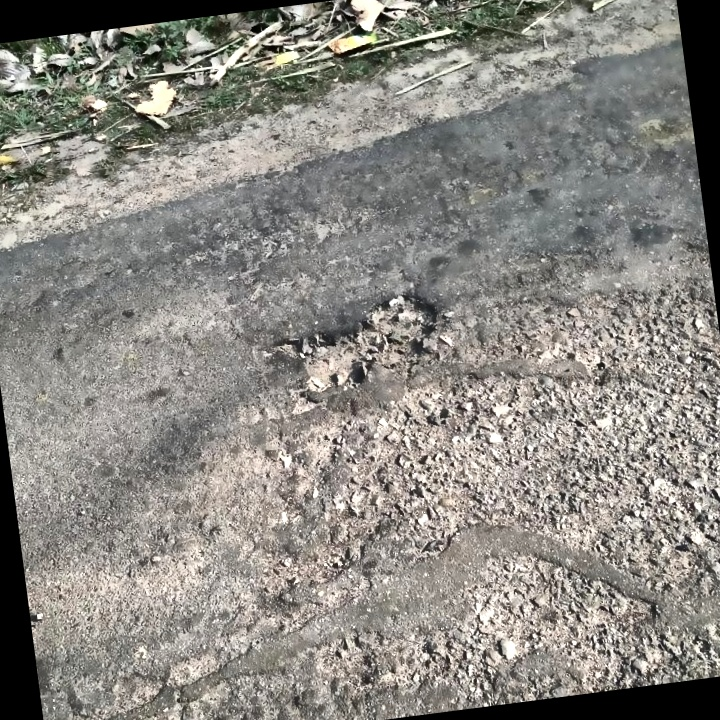pothole: (276, 284, 450, 399)
